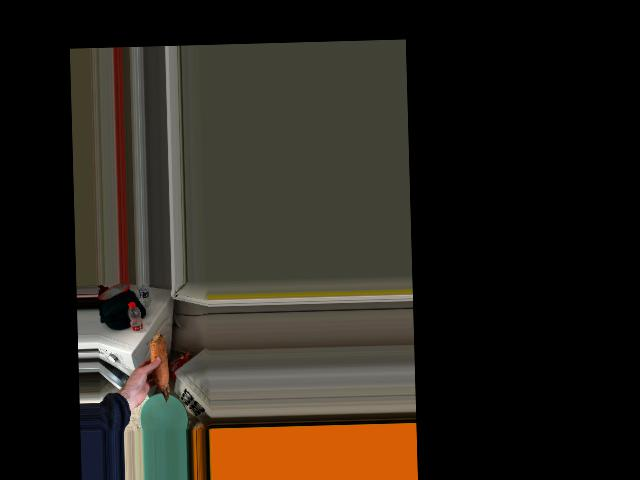sweet_potato: (147, 339, 169, 398)
